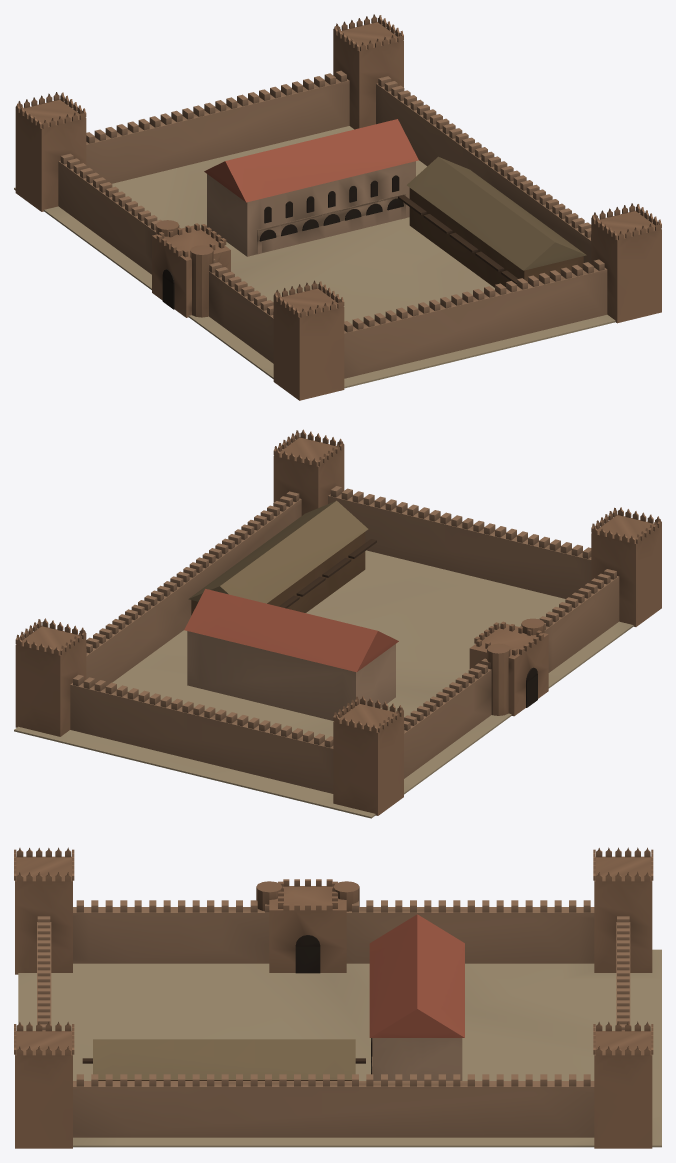
Rendered from doges-castle.glb.
The picture shows the model from 3 angles, top to bottom: view 1: azimuth 30°, elevation 25°; view 2: azimuth 150°, elevation 25°; view 3: azimuth 270°, elevation 25°; orthographic projection. The views are drawn at different scales.
Parts seen in each view (by area): view 1: p0_walls, p1_towers; view 2: p0_walls, p1_towers; view 3: p0_walls, p1_towers.
Boxes of the visible parts, x1,y1,x2,y2 form: p0_walls: (14, 70, 615, 388); p1_towers: (15, 14, 661, 400); p0_walls: (14, 486, 633, 818); p1_towers: (15, 429, 661, 815); p0_walls: (18, 900, 661, 1147); p1_towers: (14, 847, 653, 1148).
Size of the model in its own units: 73.49 by 17.55 by 101.
